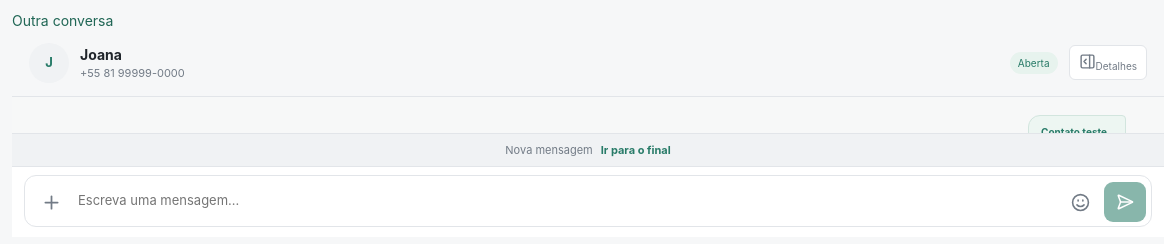
Scenario: ConversationView › preserves reading on incoming DEMO messages and exposes an accessible jump to the end
(page scrolled)
Expected: the text "Nova mensagem" is shown, x1=505 y1=143 x2=593 y2=157
Step 1. Click the button "Ir para o final" → (636, 150), box x1=601 y1=139 x2=671 y2=161
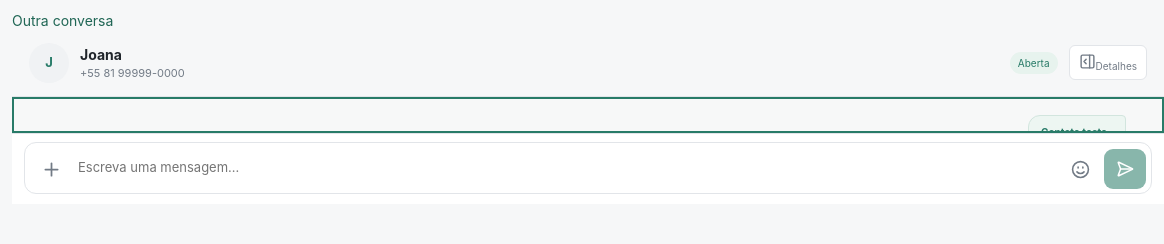
Expected: the text "Nova mensagem" is gone
